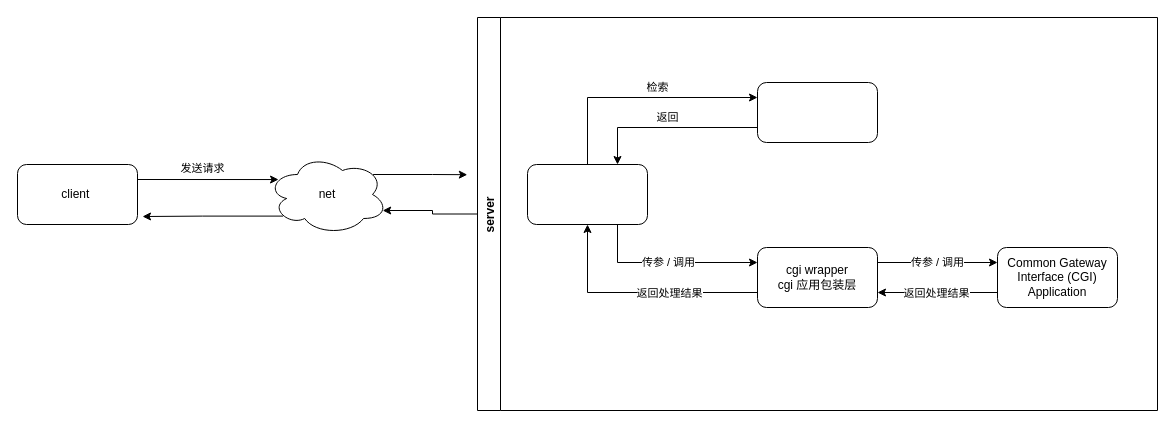
Image size: 1175x428. Some labels were removed from this diagram. The shapes that lost their labels are listed below. From the top down, each one's box as (x1, y1, x2, y2) in pixels, then its label:
(756, 82, 878, 142): 静态资源
(526, 164, 648, 224): nginx
